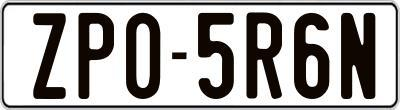0: (123, 13, 157, 105)
5: (196, 10, 235, 97)
6: (291, 11, 326, 103)
N: (339, 12, 374, 99)
P: (77, 12, 117, 102)
R: (243, 11, 285, 99)
Z: (31, 12, 67, 100)
